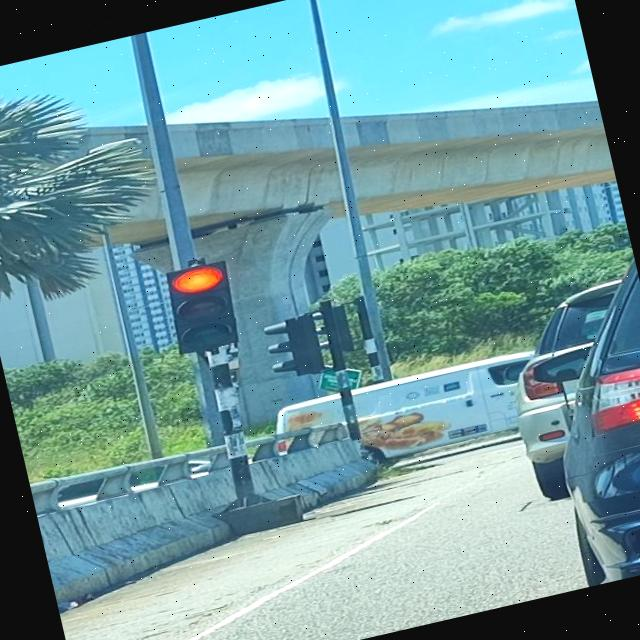red_light: (162, 260, 244, 356)
